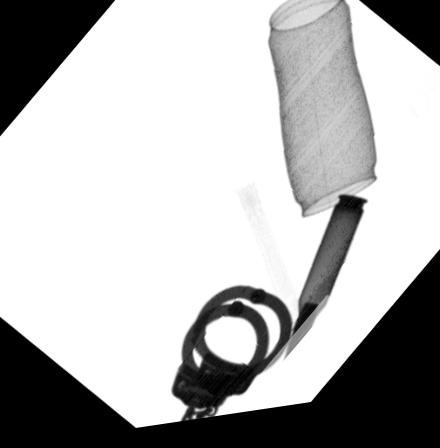Bullet: (282, 205, 370, 385)
HandCuffs: (170, 291, 291, 427)
